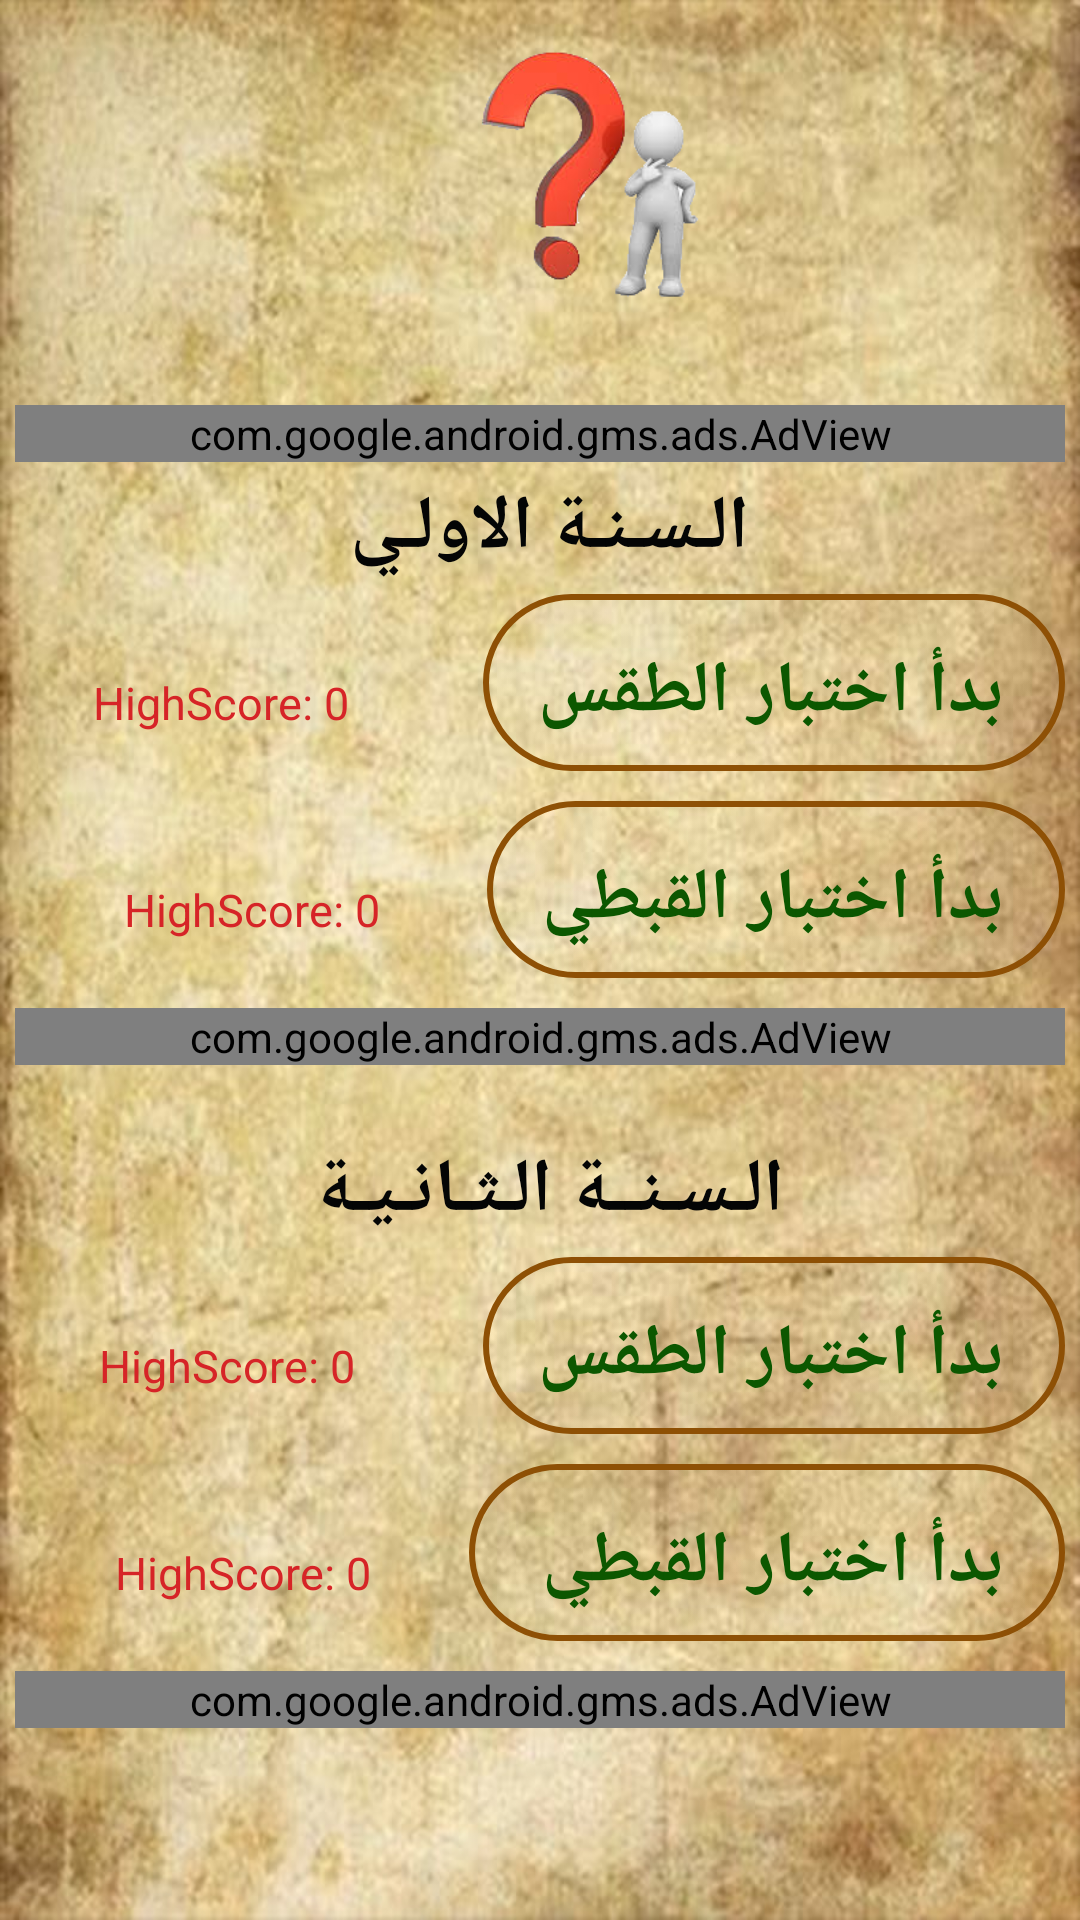

Icon bounding boxes for this 1080px x 1920px phone screenshot, format {"x1": x1, "y1": y1, "x2": x2, "y2": y2}:
quiz: {"x1": 450, "y1": 30, "x2": 750, "y2": 330}
